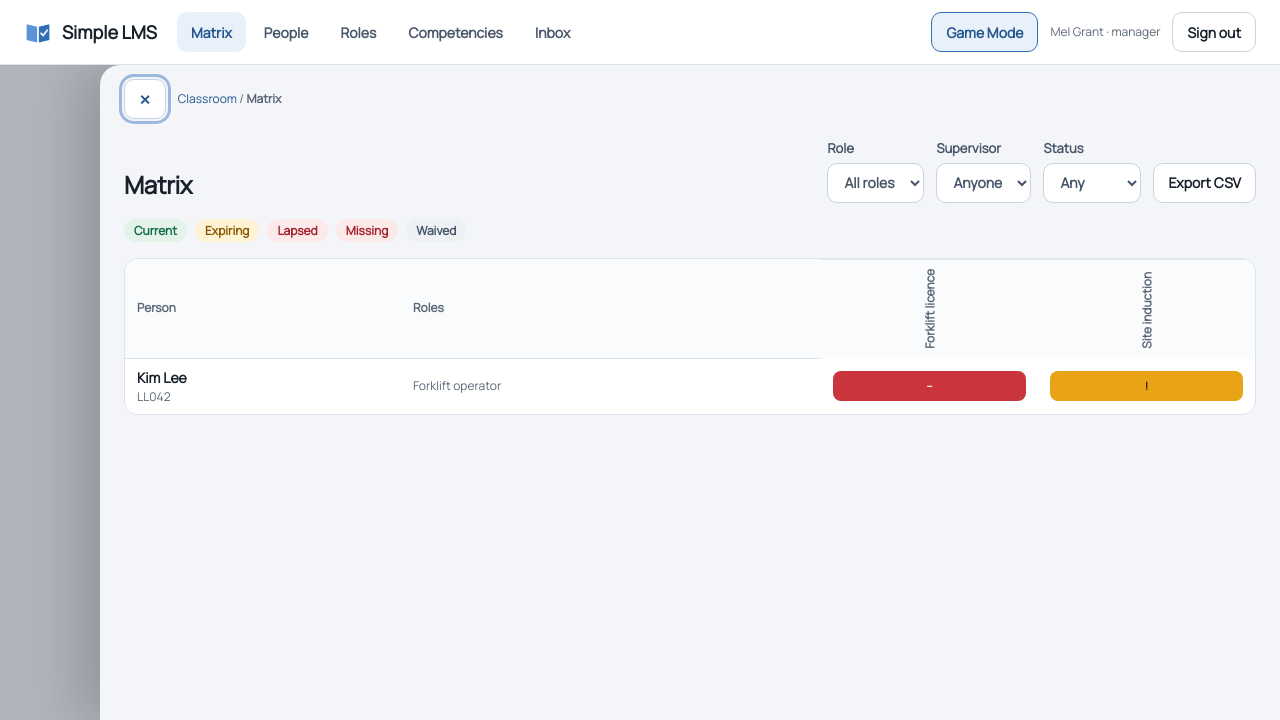
Test: the matrix › keeps the drawer open when a filter hides the person after a change
Check: the button named "Kim Lee, Forklift licence" is shown, box [833,371,1026,401]
Select "Missing" in the dropdown labelled "Status" at (1092, 182), box [1043,162,1141,202]
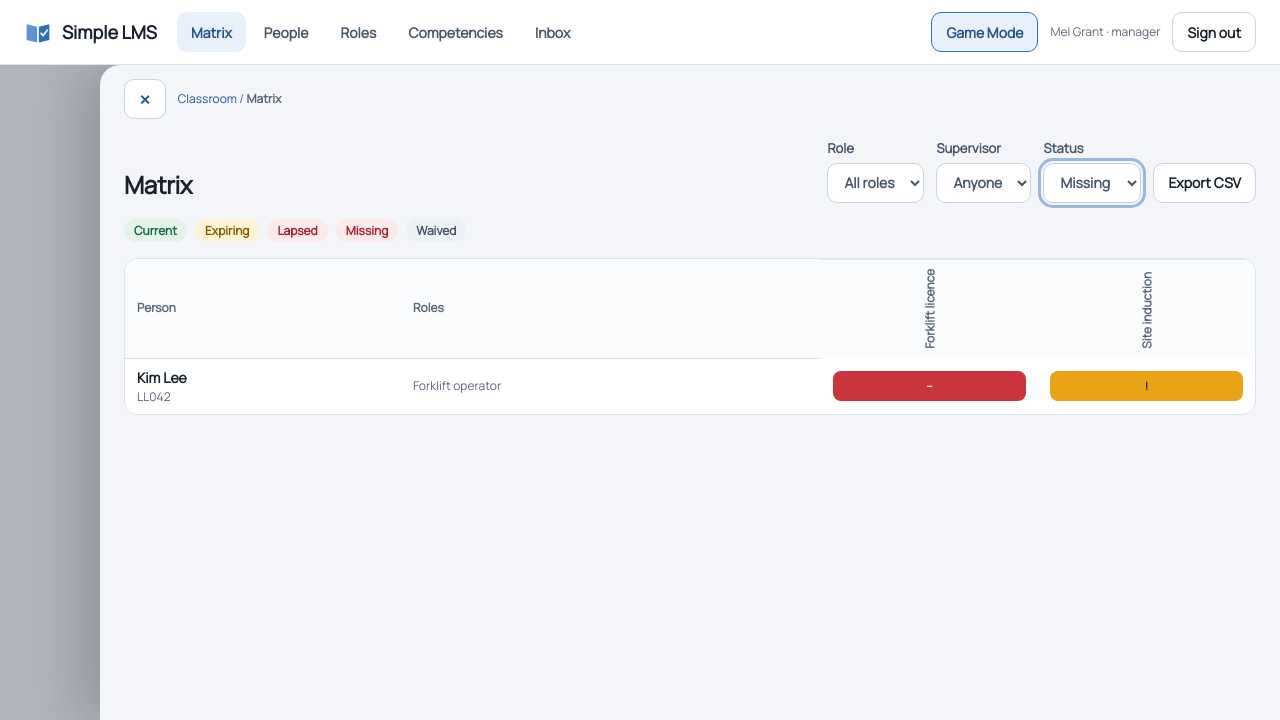
Click the button named "Kim Lee, Forklift licence: Missing" at (930, 386), box [833,371,1026,401]
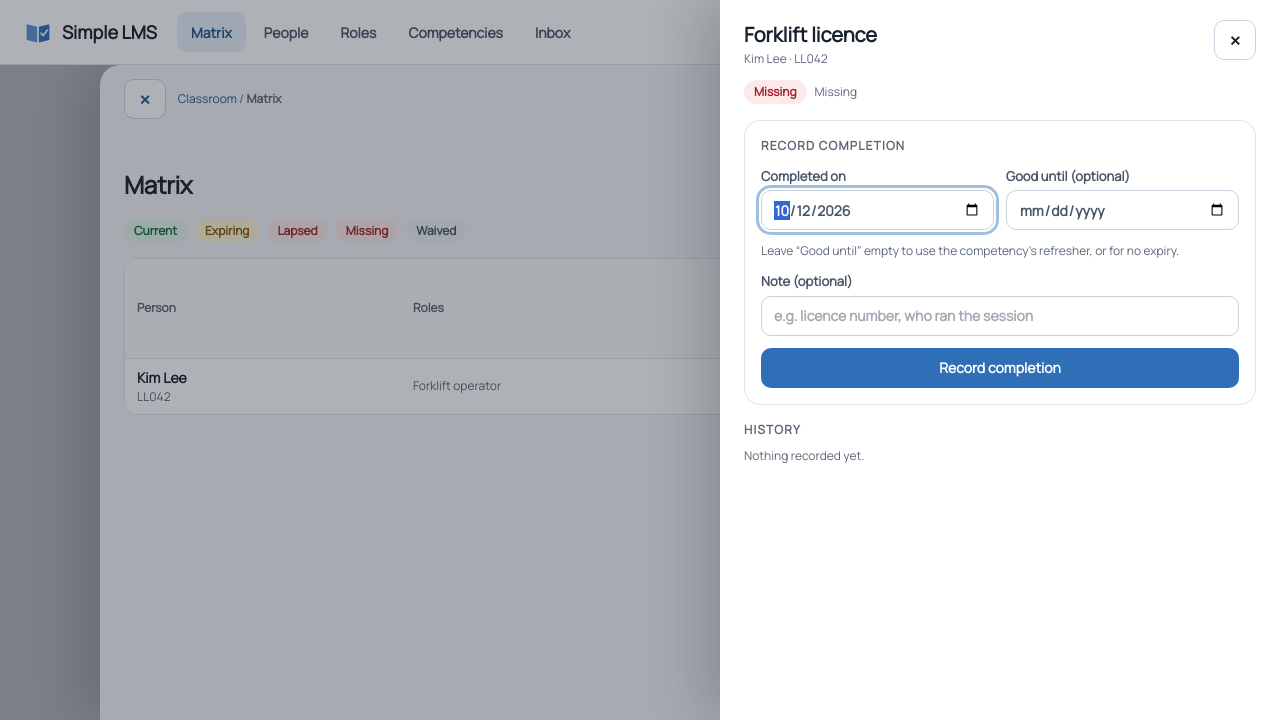
Click the button "Record completion" at (1000, 368), box [761,348,1239,388]
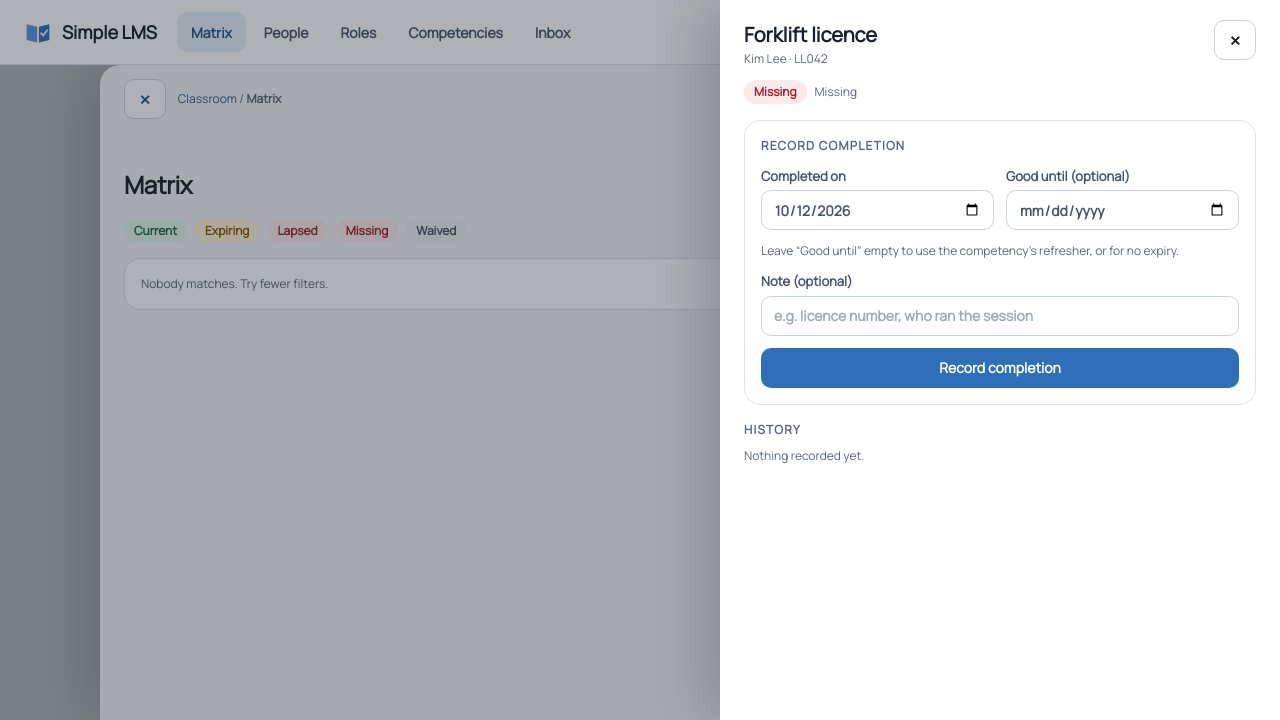
Check: the dialog "Forklift licence" is shown, box [720,0,1279,719]
Check: the text "Nobody matches. Try fewer filters." is shown, box [124,258,1256,310]
Click the button named "Close" at (1235, 40), box [1214,20,1256,60]
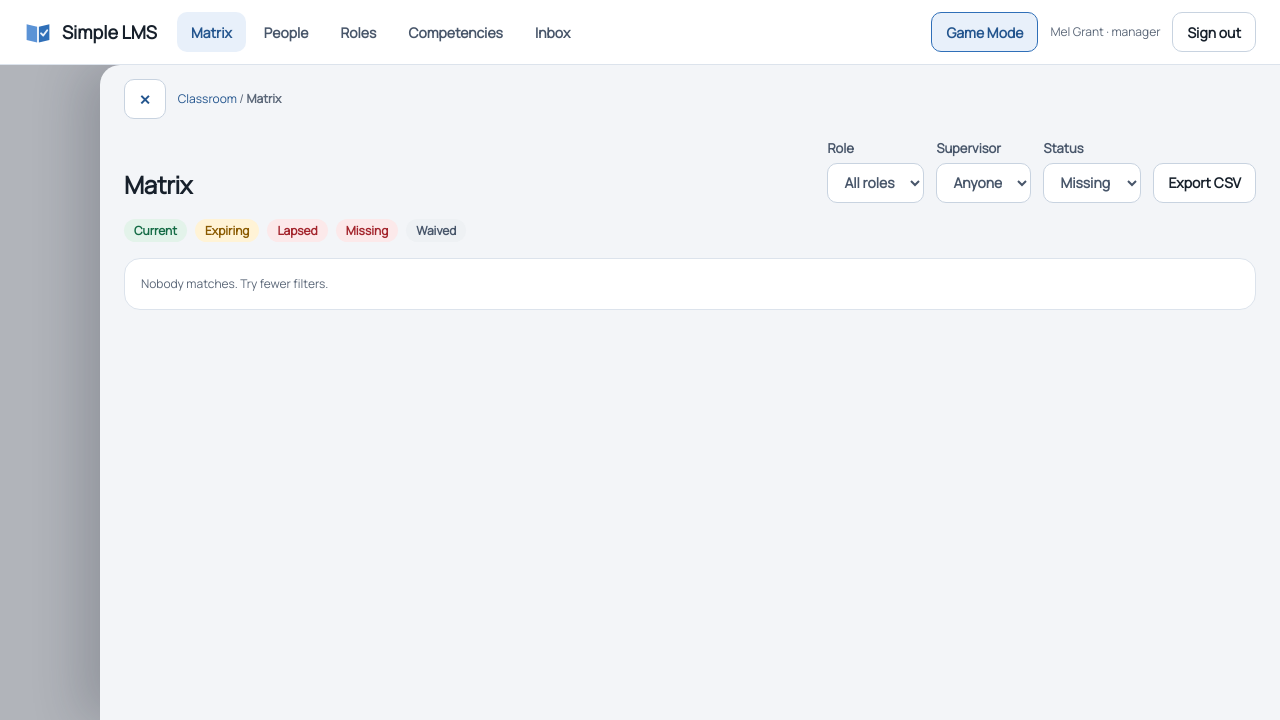
Check: the dialog is gone
